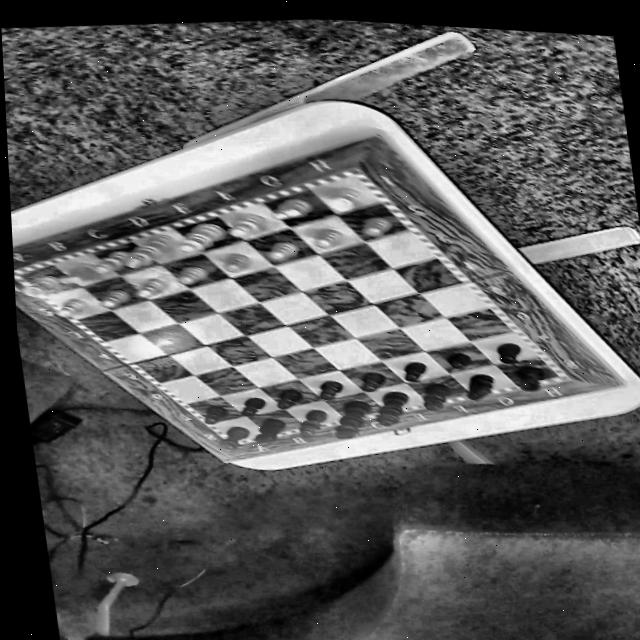chessboard: (15, 175, 555, 441)
